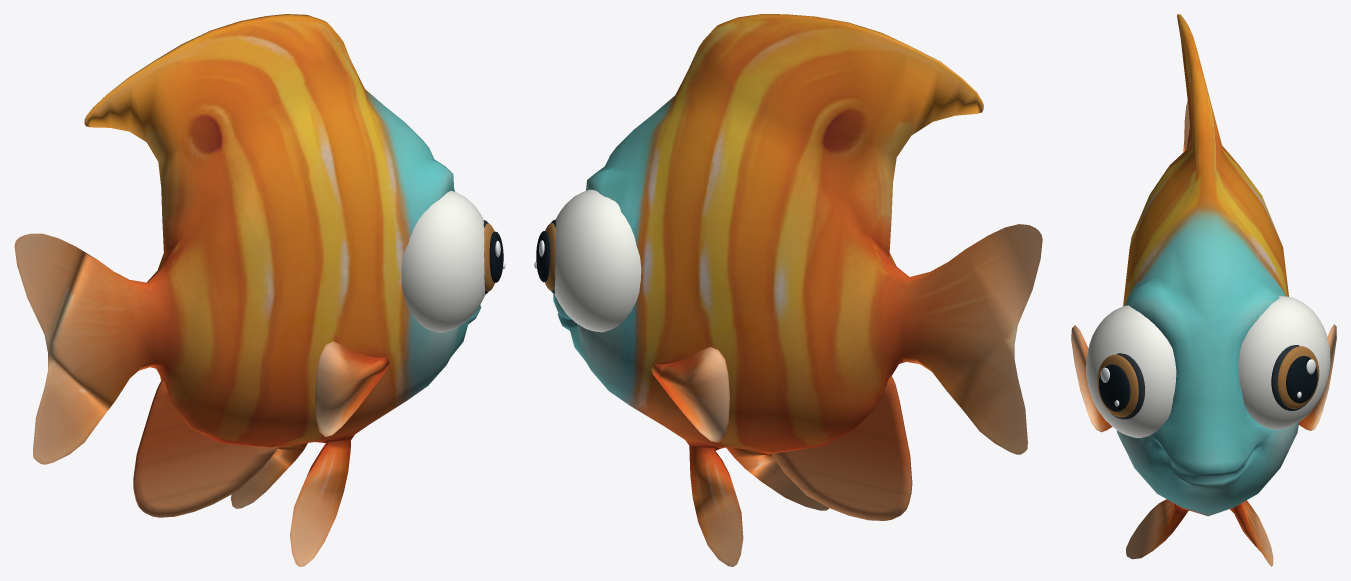
File: fish_01.glb
3 renders of one model, left to right at view 1: azimuth 30°, elevation 25°; view 2: azimuth 150°, elevation 25°; view 3: azimuth 270°, elevation 25°, orthographic. The views are drawn at different scales.
Parts seen in each view (by area): view 1: Tripo Fish 01 • Swim; view 2: Tripo Fish 01 • Swim; view 3: Tripo Fish 01 • Swim.
Part boxes in pixels (bbox=[...]): Tripo Fish 01 • Swim: bbox=[14, 14, 505, 566]; Tripo Fish 01 • Swim: bbox=[534, 14, 1042, 566]; Tripo Fish 01 • Swim: bbox=[1071, 14, 1336, 566].
Bounding box in the file's own units: 0.4161 × 0.4419 × 0.2139.
7 materials, 2 textured.
